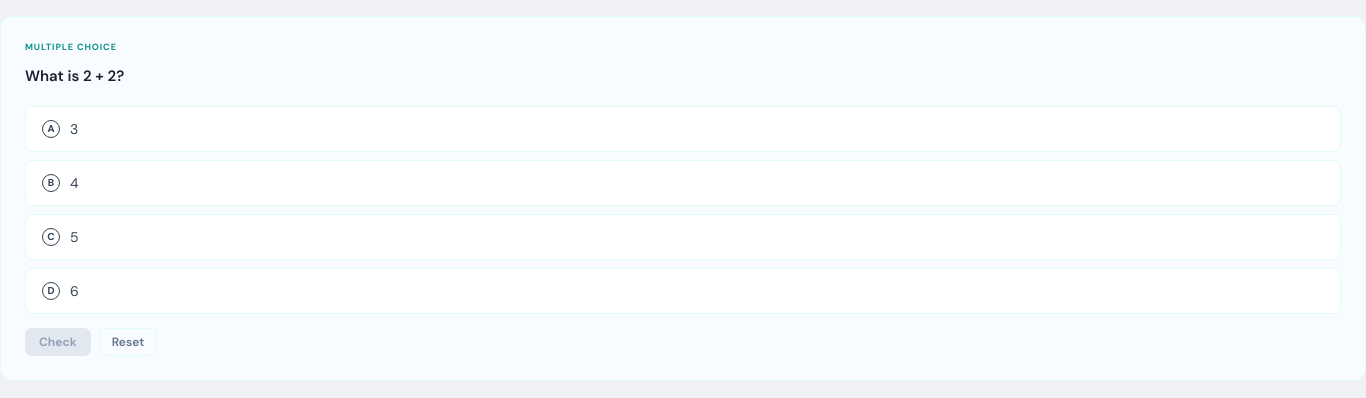
Scenario: QuizView › clicking an option enables the Check button
The width and height of the screenshot is (1366, 398).
Expected: the button "Check" is disabled, [25,328,91,356]
Click the button "B 4" at x=51, y=183, box [25,160,1341,206]
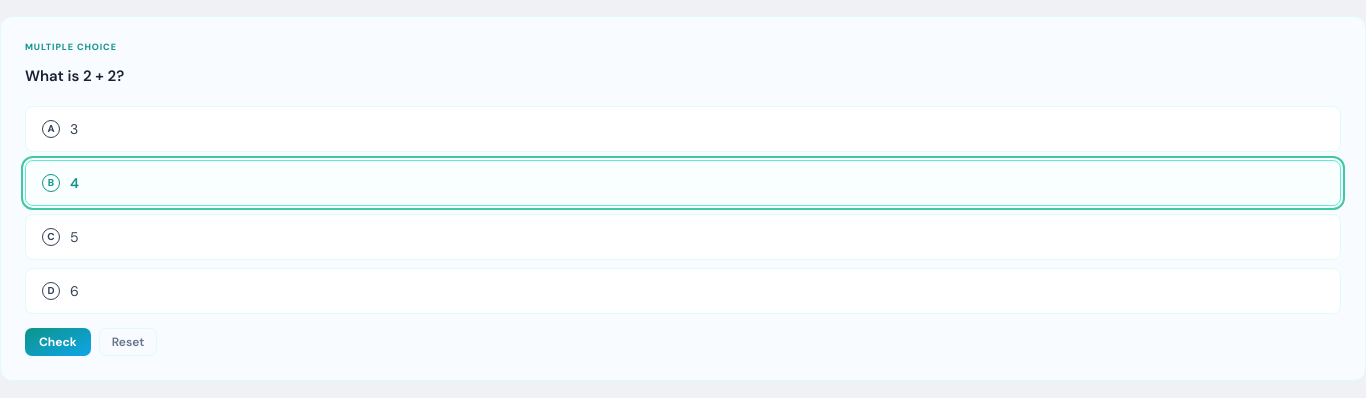
Now the button "Check" is enabled, box [25,328,91,356]
